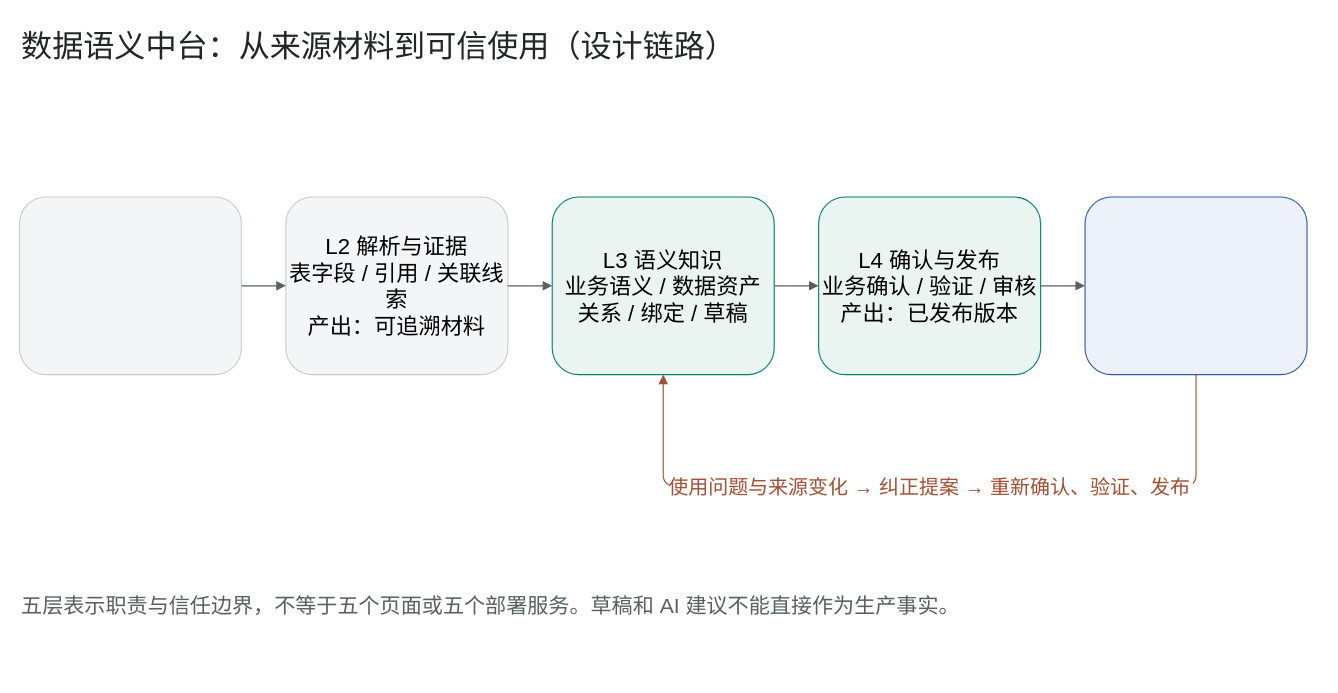
This 1338x693 diagram has some shape labels left out. Here are the shapes that lost their labels. From the top down, the centre of each, then its label:
[129,285]: L1 来源接入 数据库结构 / 文档 / SQL 产出：来源与版本
[1195,285]: L5 使用与反馈 问数 / API / 外部 AI 产出：结果与依据
